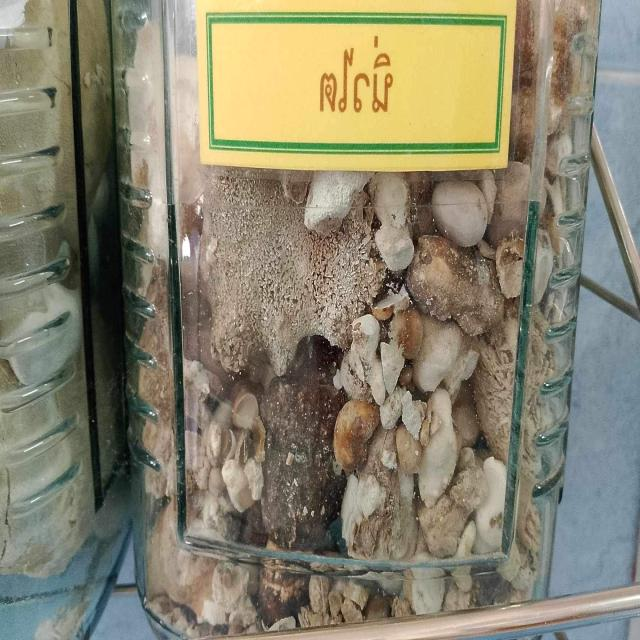General: (110, 2, 609, 636), (194, 4, 518, 174)
